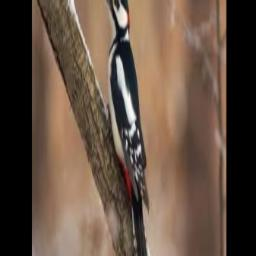Woodpecker: (100, 0, 149, 256)
